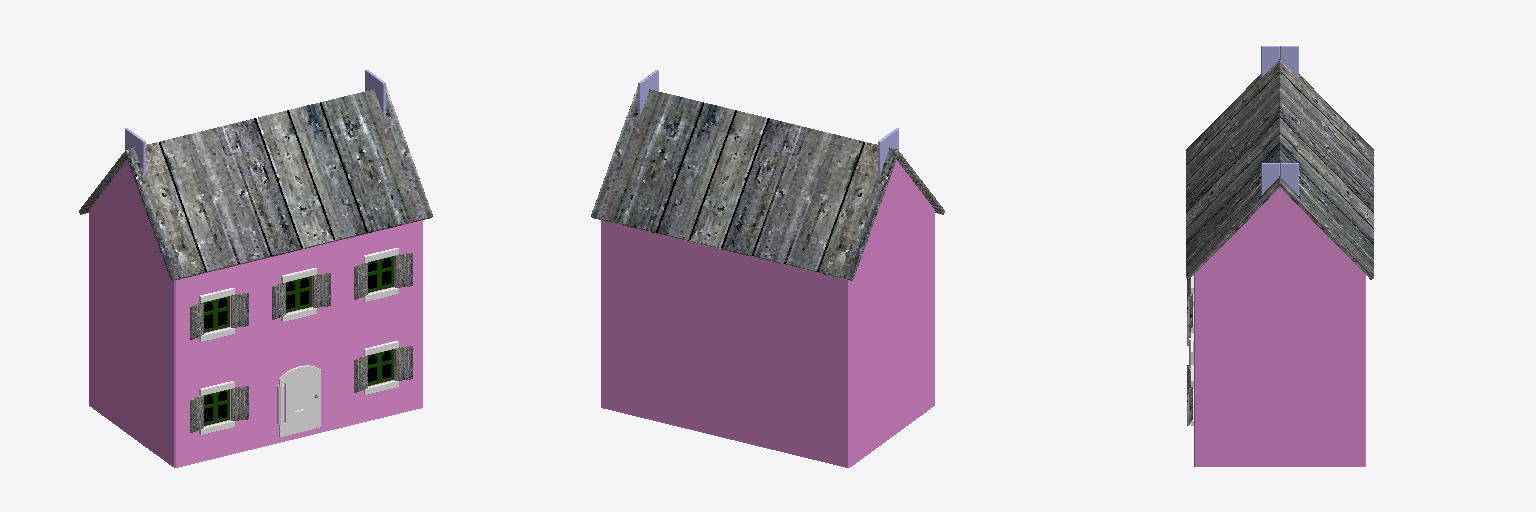
3 renders of one model, left to right at view 1: azimuth 30°, elevation 25°; view 2: azimuth 150°, elevation 25°; view 3: azimuth 270°, elevation 25°, orthographic.
Visible parts, largest first — view 1: Doll_s_hou; view 2: Doll_s_hou; view 3: Doll_s_hou.
Boxes of the visible parts, x1=… form: Doll_s_hou: x1=79, y1=70, x2=432, y2=467; Doll_s_hou: x1=591, y1=70, x2=944, y2=467; Doll_s_hou: x1=1186, y1=46, x2=1373, y2=466.
Size of the model in its own units: 52.3 by 57.71 by 32.7.
6 materials, 3 textured.